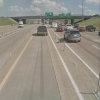Bridge: (13, 11, 92, 22)
